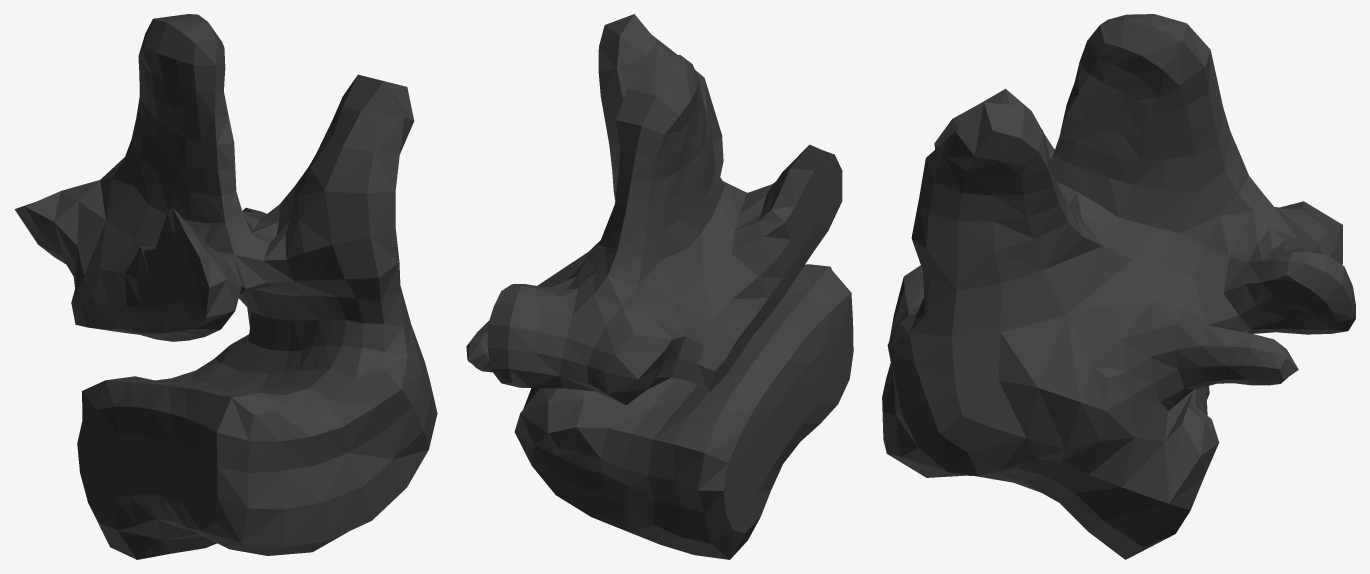
3 renders of one model, left to right at view 1: azimuth 30°, elevation 25°; view 2: azimuth 150°, elevation 25°; view 3: azimuth 270°, elevation 25°, orthographic. The views are drawn at different scales.
Parts seen in each view (by area): view 1: T13; view 2: T13; view 3: T13.
Part boxes in pixels (left/top/right/bottom): T13: left=14, top=14, right=437, bottom=559; T13: left=466, top=14, right=853, bottom=559; T13: left=882, top=14, right=1355, bottom=559.
Size of the model in its own units: 0.00664 by 0.0126 by 0.0106.
Materials: 1 (1 with a texture image).
